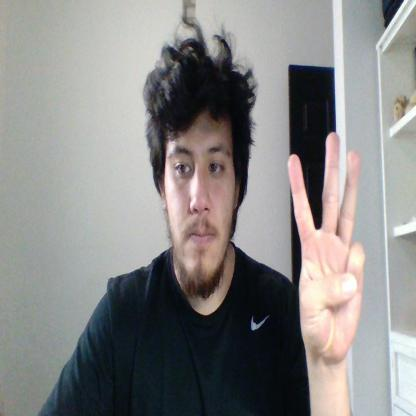W: (288, 133, 365, 362)
